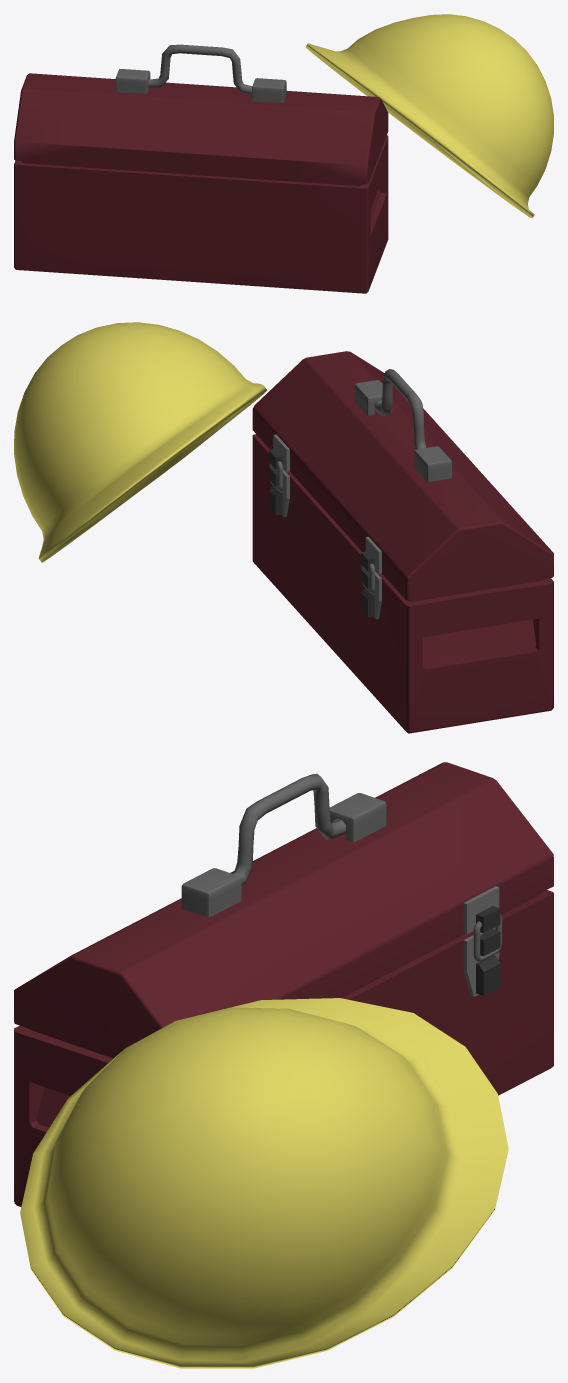
File: a2_goal_object.fbx
The picture shows the model from 3 angles, top to bottom: view 1: azimuth 30°, elevation 25°; view 2: azimuth 150°, elevation 25°; view 3: azimuth 270°, elevation 25°; orthographic projection. The views are drawn at different scales.
Parts seen in each view (by area): view 1: tool_box, helmet; view 2: tool_box, helmet; view 3: helmet, tool_box.
Part boxes in pixels (bbox=[...]): tool_box: bbox=[14, 44, 388, 293]; helmet: bbox=[305, 14, 553, 218]; tool_box: bbox=[252, 351, 553, 733]; helmet: bbox=[14, 322, 267, 562]; helmet: bbox=[20, 998, 508, 1368]; tool_box: bbox=[14, 762, 553, 1206].
Size of the model in its own units: 2.89 by 1.22 by 1.71.
